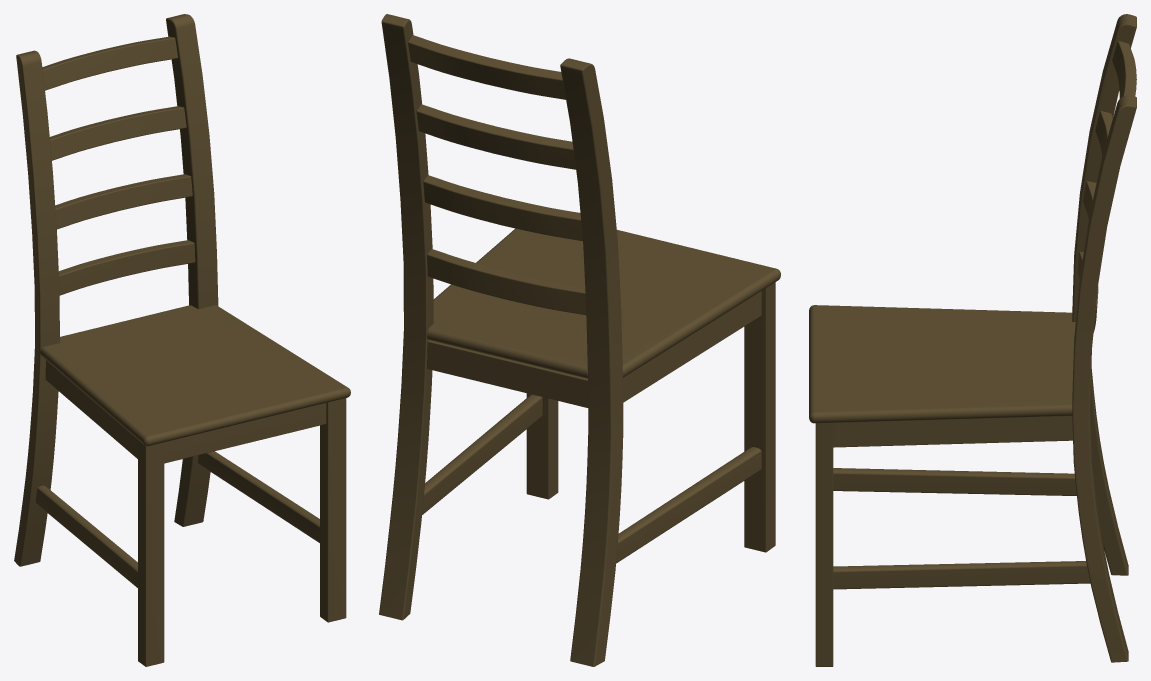
The model's file is chair.fbx.
3 renders of one model, left to right at view 1: azimuth 30°, elevation 25°; view 2: azimuth 150°, elevation 25°; view 3: azimuth 270°, elevation 25°, orthographic. The views are drawn at different scales.
Parts seen in each view (by area): view 1: IKEA_CHAIR; view 2: IKEA_CHAIR; view 3: IKEA_CHAIR.
Boxes of the visible parts, x1=… form: IKEA_CHAIR: x1=14, y1=14, x2=350, y2=666; IKEA_CHAIR: x1=379, y1=14, x2=780, y2=666; IKEA_CHAIR: x1=809, y1=14, x2=1136, y2=666.
Bounding box in the file's own units: 44 × 102 × 54.84.
